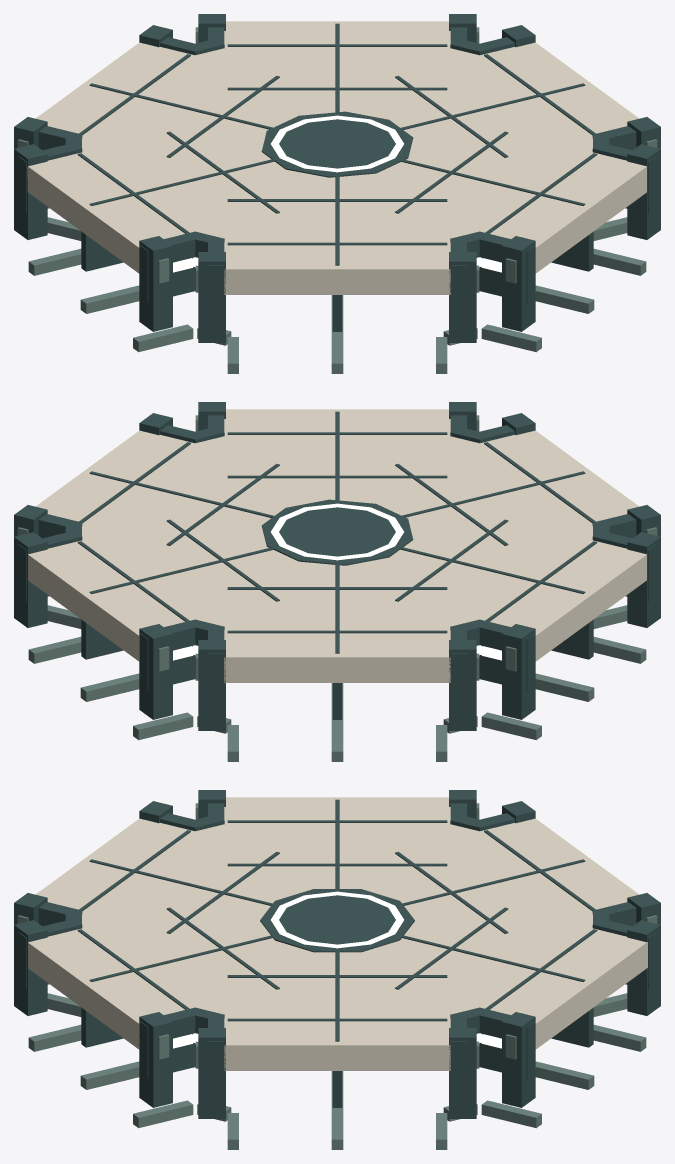
Rendered from Junction_Hub6_lab.glb.
3 renders of one model, top to bottom at view 1: azimuth 30°, elevation 25°; view 2: azimuth 150°, elevation 25°; view 3: azimuth 270°, elevation 25°, orthographic.
Parts seen in each view (by area): view 1: Junction_Hub6; view 2: Junction_Hub6; view 3: Junction_Hub6.
Part boxes in pixels (x1,y1,x2,y2): Junction_Hub6: [14, 14, 660, 373]; Junction_Hub6: [14, 402, 660, 761]; Junction_Hub6: [14, 790, 660, 1149].
Bounding box in the file's own units: 7.22 × 1.58 × 7.95.
